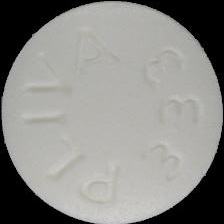68151-2007: (0, 0, 224, 224)
